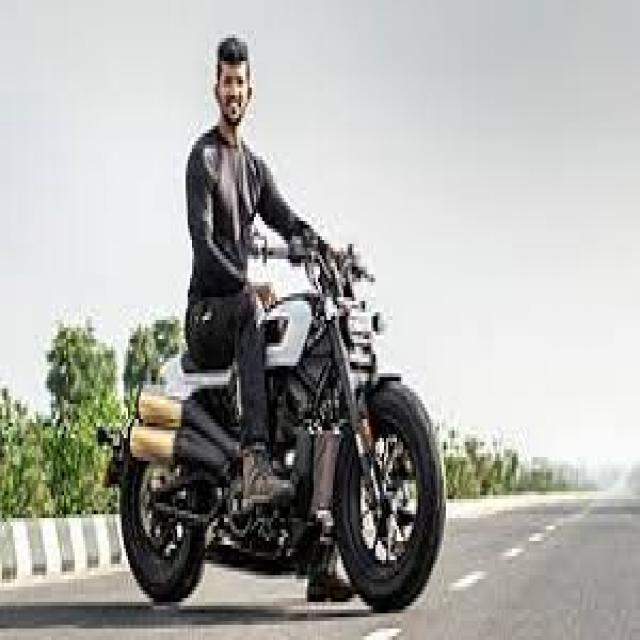Bike: (112, 234, 446, 616)
